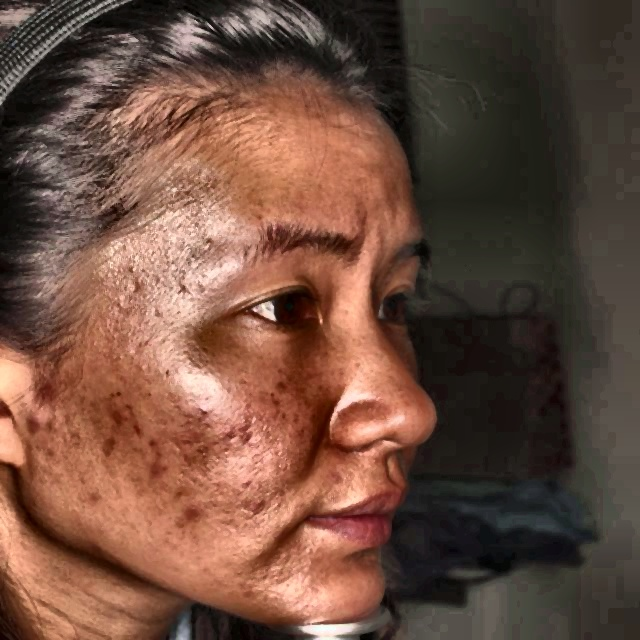comedone: (24, 404, 47, 442), (27, 374, 58, 400), (150, 455, 169, 481), (247, 493, 266, 515), (186, 494, 200, 518)
